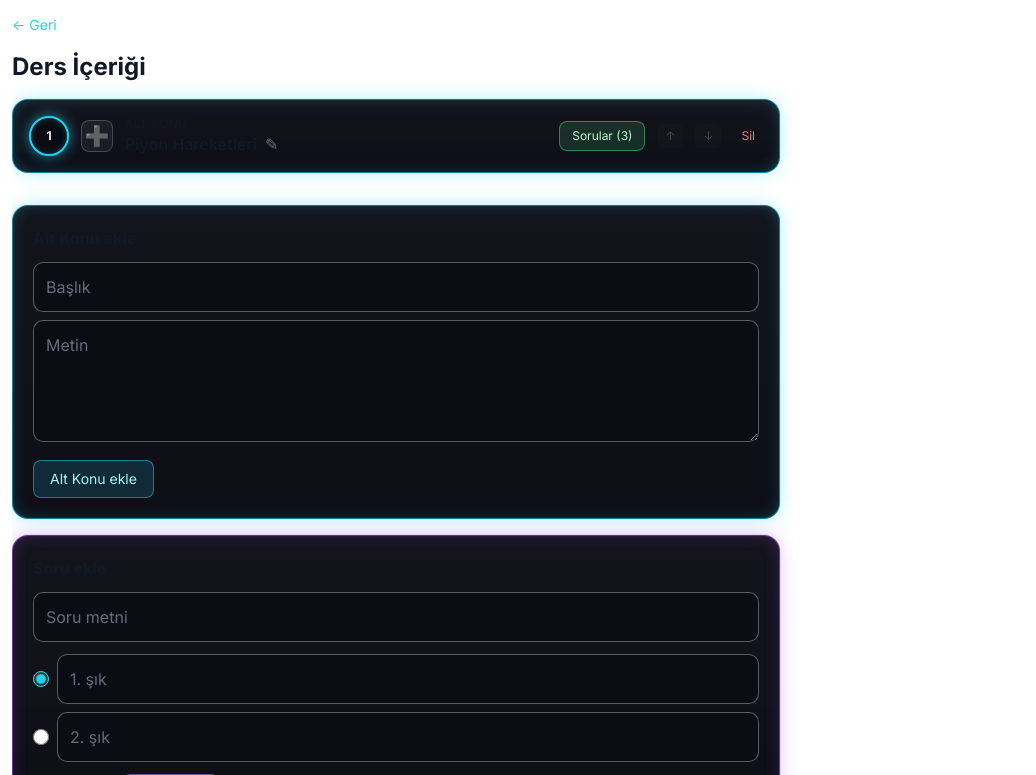
Admin ders sayfası — "Ödevini Yap": sadece Soru Sayısı (Başarı Puanı YOK) › kaydedilmiş sayı havuzdan büyük kalırsa bilgilendirme notu görünür
Click the button "Sorular (3)": [602, 136] box [559,121,645,151]
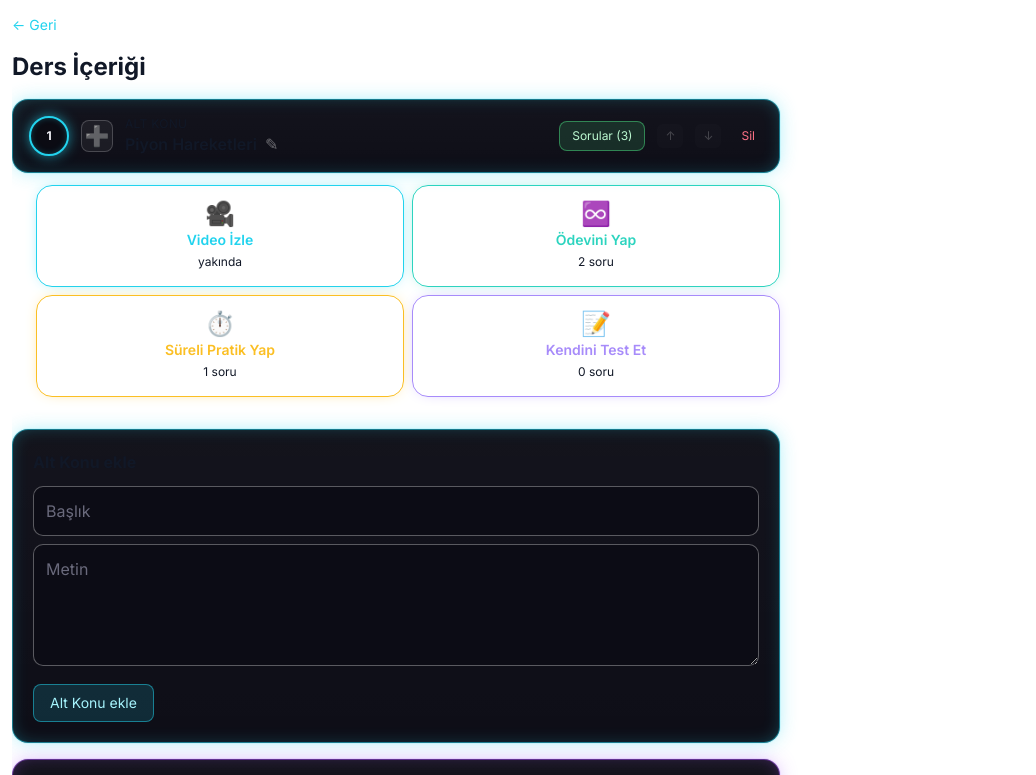
Expected: the text "Ödevini Yap" is shown
Click the text "Ödevini Yap": [596, 240] box [556,230,636,250]
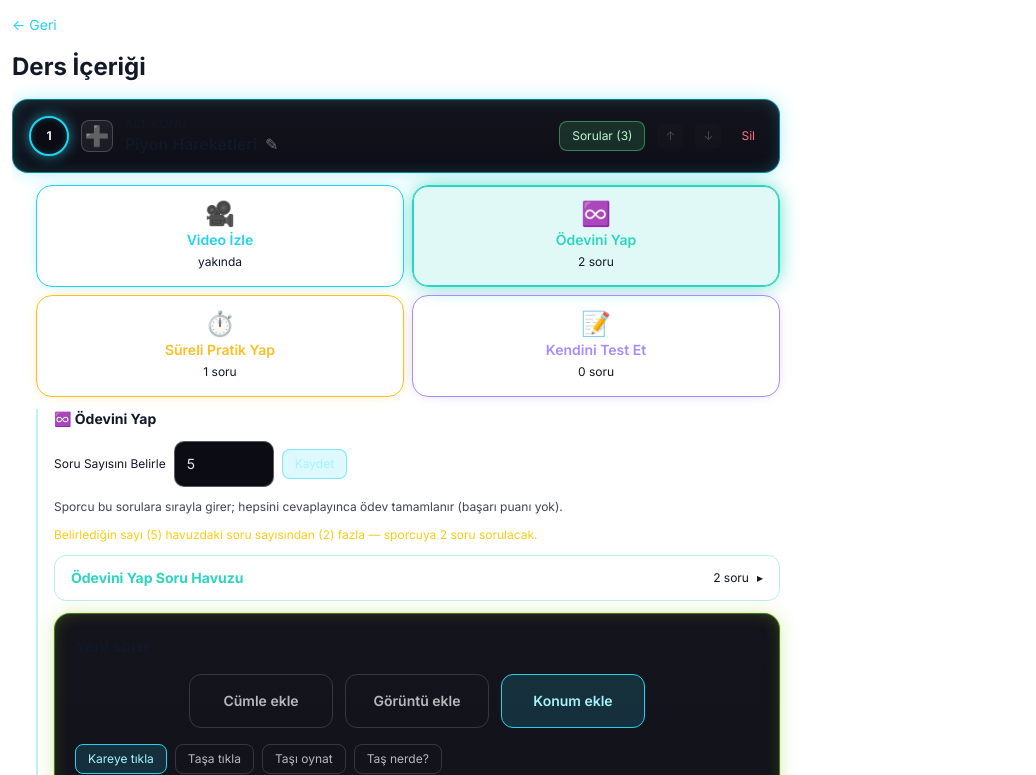
Expected: the text "Soru Sayısını Belirle" is shown, [54,456,166,472]
Expected: the text "Belirlediğin sayı (5) havuzdaki soru sayısından (2) fazla" is shown, [54,527,538,542]
